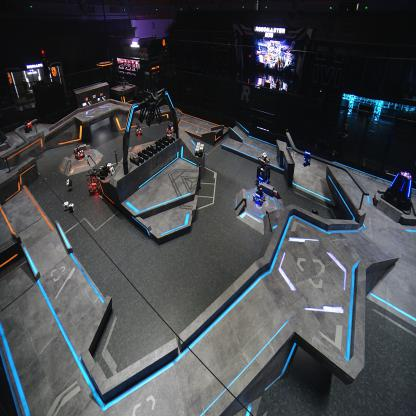car: (86, 165, 102, 196), (256, 155, 271, 188), (252, 184, 265, 205), (74, 143, 85, 160), (165, 122, 175, 134), (134, 122, 142, 136)
